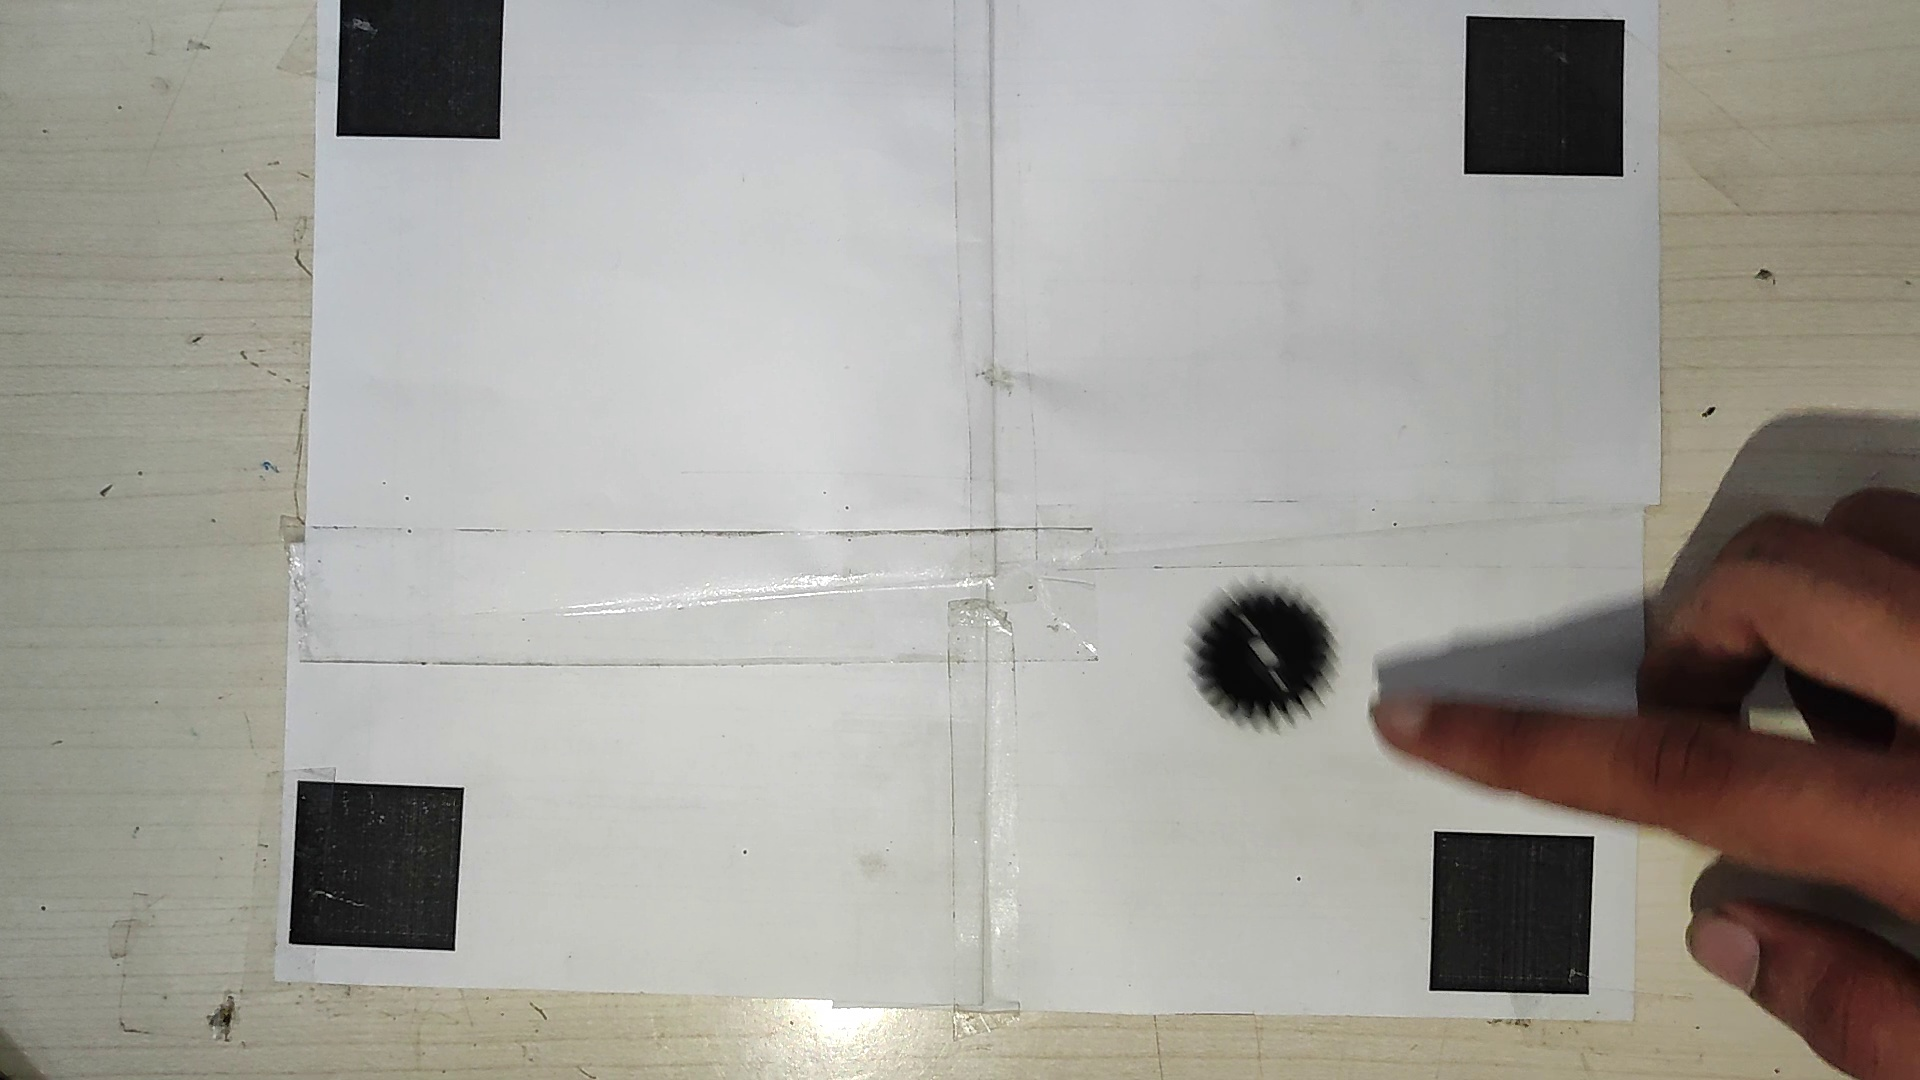Gear: (1184, 588, 1333, 729)
